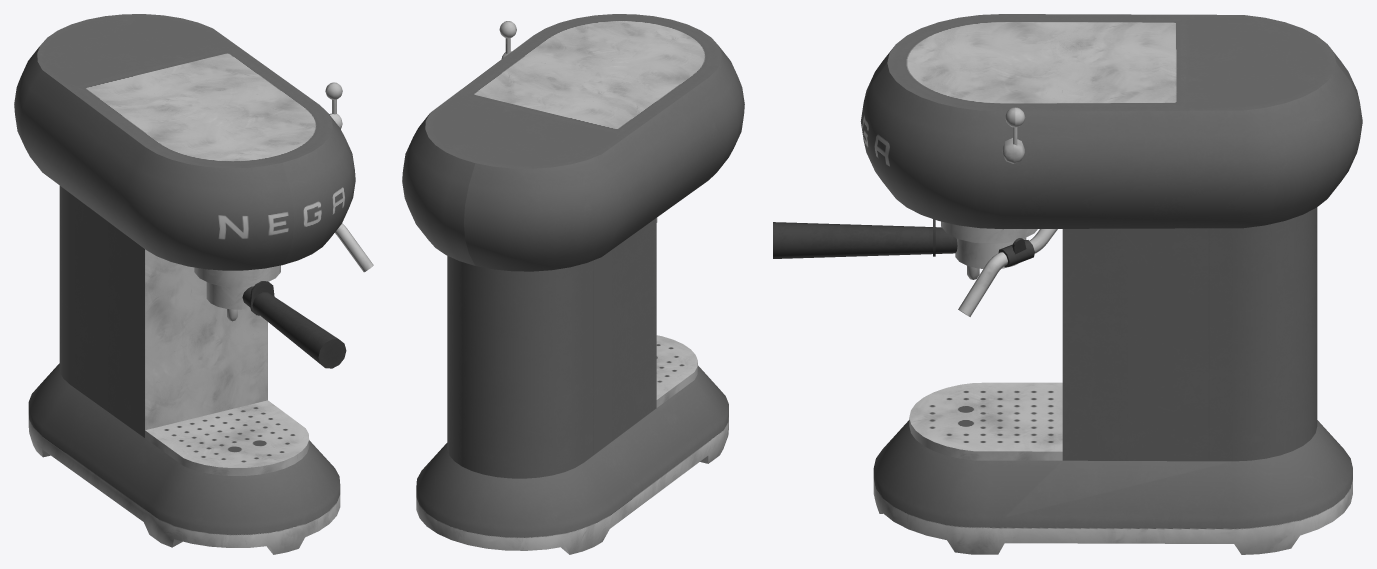
Rendered from CoffeeMachine.FBX.
The picture shows the model from 3 angles, left to right: view 1: azimuth 30°, elevation 25°; view 2: azimuth 150°, elevation 25°; view 3: azimuth 270°, elevation 25°; orthographic projection. The views are drawn at different scales.
Parts seen in each view (by area): view 1: CoffeeMachine_LOD0; view 2: CoffeeMachine_LOD0; view 3: CoffeeMachine_LOD0.
Boxes of the visible parts, x1,y1,x2,y2 form: CoffeeMachine_LOD0: [14, 14, 373, 554]; CoffeeMachine_LOD0: [402, 14, 744, 554]; CoffeeMachine_LOD0: [773, 14, 1362, 554].
Size of the model in its own units: 21.28 by 35.08 by 40.89.
